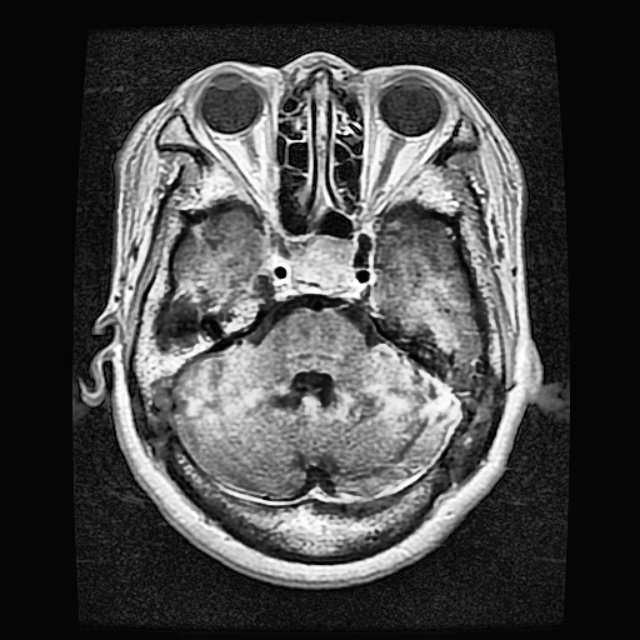Pituitary: (289, 233, 357, 297)
